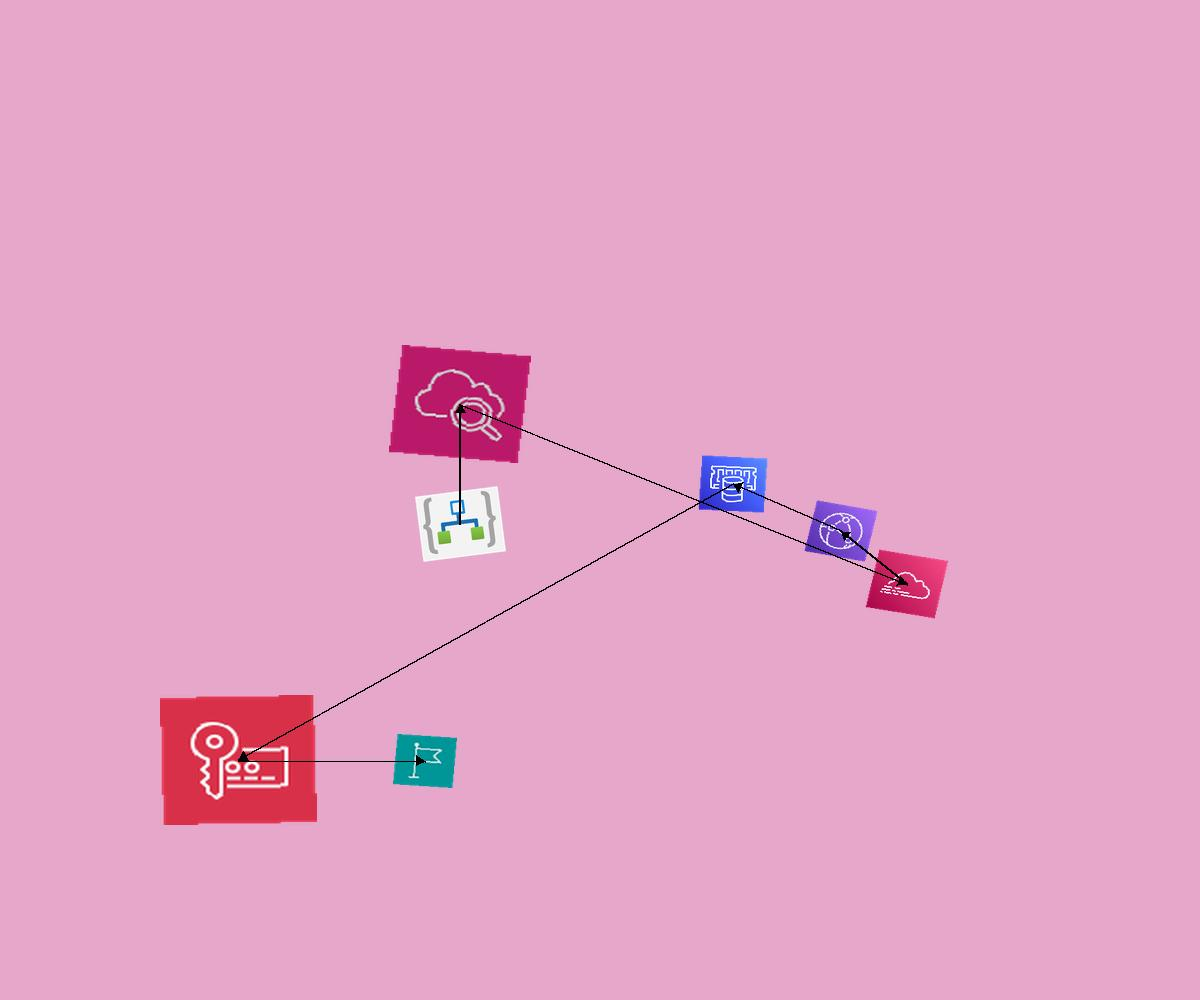AWS-CloudFront: (804, 500, 878, 562)
AWS-CloudTrail: (865, 549, 949, 619)
AWS-CloudWatch: (389, 345, 531, 463)
AWS-ElastiCache: (698, 455, 768, 513)
AWS-Key-Management-Service: (160, 695, 317, 825)
AWS-Region: (393, 734, 457, 788)
Azure_integration-204-Logic-Apps: (415, 486, 506, 562)
